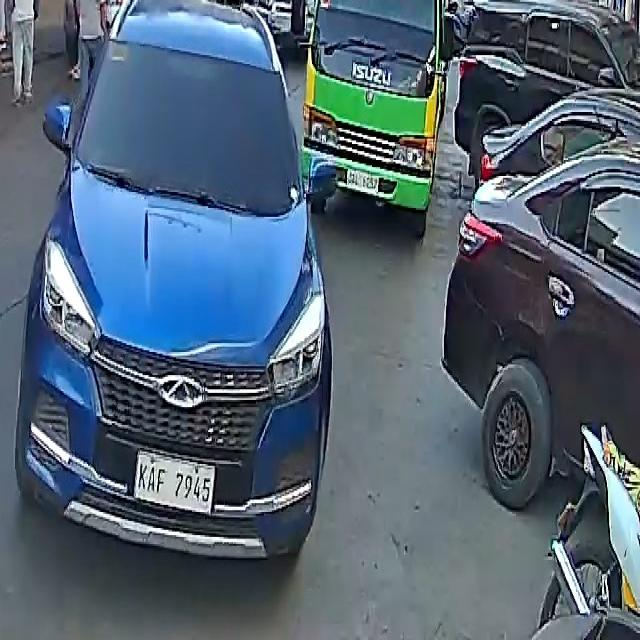car: (16, 0, 335, 546), (443, 69, 640, 523), (450, 0, 639, 183), (75, 0, 208, 21)
